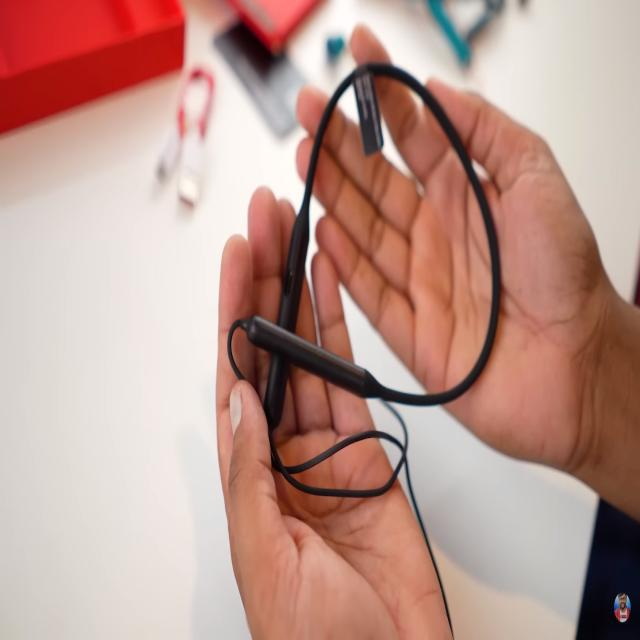Neckband: (227, 60, 502, 498)
